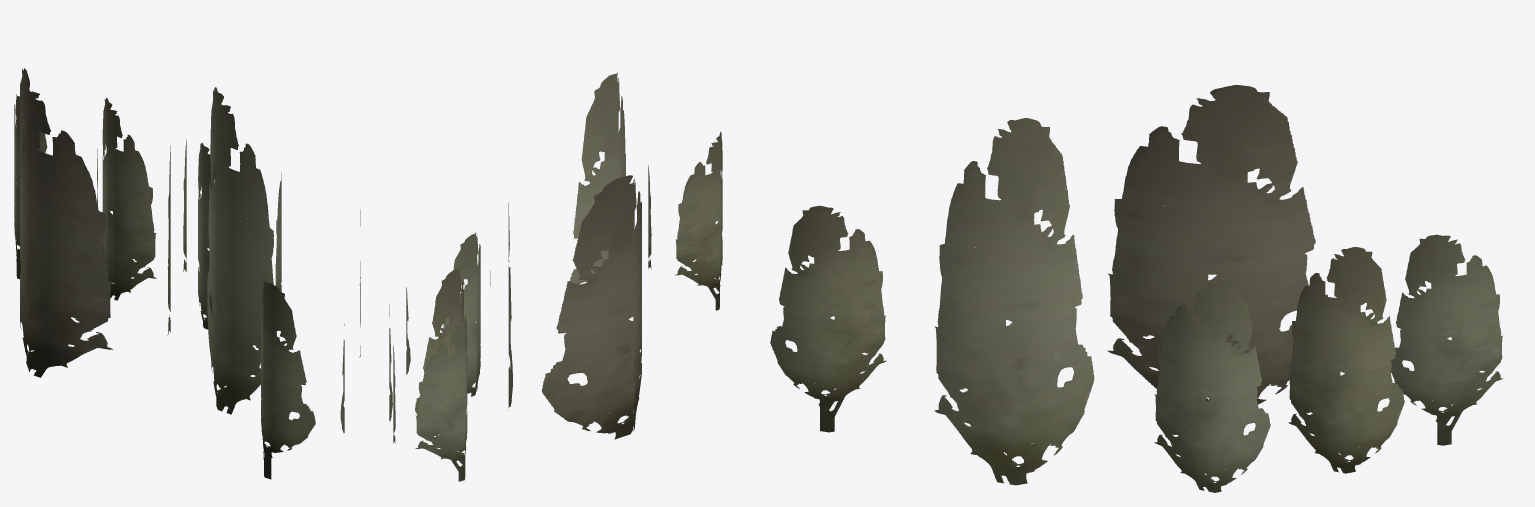
3 renders of one model, left to right at view 1: azimuth 30°, elevation 25°; view 2: azimuth 150°, elevation 25°; view 3: azimuth 270°, elevation 25°, orthographic. The views are drawn at different scales.
Parts seen in each view (by area): view 1: body0_model0_lod0_mesh0; view 2: body0_model0_lod0_mesh0; view 3: body0_model0_lod0_mesh0.
Boxes of the visible parts, x1=… form: body0_model0_lod0_mesh0: x1=14, y1=68, x2=360, y2=479; body0_model0_lod0_mesh0: x1=389, y1=72, x2=722, y2=481; body0_model0_lod0_mesh0: x1=770, y1=85, x2=1502, y2=492.
Size of the model in its own units: 34.25 by 42.15 by 79.25.
1 material, 1 textured.
